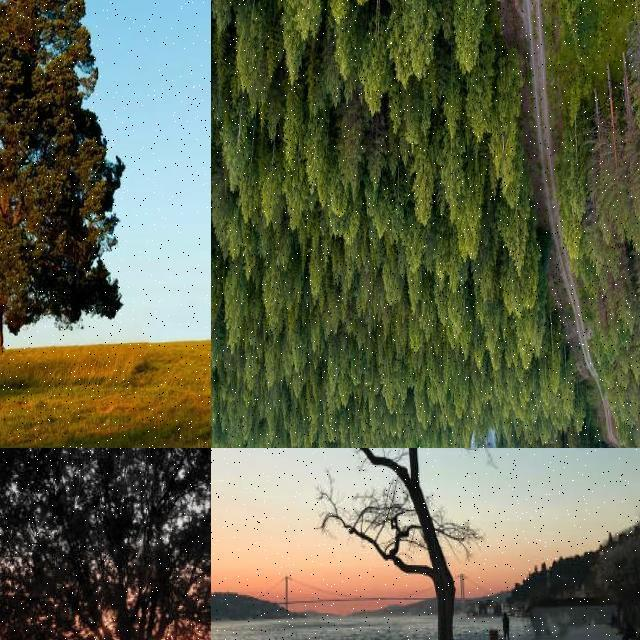tree: (214, 448, 580, 640), (0, 1, 128, 352), (0, 448, 212, 640), (589, 72, 627, 248), (488, 49, 526, 191), (389, 0, 443, 88), (556, 126, 588, 262), (210, 12, 238, 132), (360, 0, 388, 112), (498, 188, 534, 272), (218, 98, 250, 192), (234, 0, 266, 92), (466, 31, 494, 136), (452, 0, 488, 80), (436, 124, 464, 226), (456, 154, 484, 256), (502, 242, 538, 314), (373, 163, 405, 241), (221, 260, 247, 356), (330, 5, 358, 81), (211, 0, 235, 84), (413, 140, 435, 230), (304, 110, 328, 192), (260, 135, 280, 229), (282, 82, 304, 165), (280, 156, 304, 232), (472, 236, 498, 300), (210, 150, 226, 254), (258, 81, 282, 149), (212, 96, 228, 196), (342, 104, 363, 180), (288, 0, 324, 44), (264, 5, 284, 83), (211, 176, 229, 260), (367, 120, 389, 188), (402, 84, 426, 146), (282, 12, 302, 86), (210, 140, 226, 228), (263, 268, 285, 332), (282, 316, 304, 380), (329, 149, 349, 219), (306, 50, 326, 119), (616, 256, 634, 332), (404, 215, 428, 272), (443, 67, 461, 139), (211, 0, 227, 80), (210, 53, 226, 127), (213, 22, 229, 94), (211, 89, 225, 168), (434, 230, 454, 284), (383, 251, 401, 309), (241, 219, 259, 277), (308, 238, 324, 302), (627, 144, 640, 222), (595, 288, 613, 344), (548, 306, 560, 389), (588, 205, 602, 275), (561, 349, 575, 419), (624, 198, 640, 258), (226, 204, 242, 264), (264, 336, 280, 389), (274, 230, 294, 272), (448, 284, 464, 336), (405, 268, 423, 312), (212, 182, 224, 248), (354, 274, 372, 318), (328, 0, 352, 32), (211, 222, 223, 286), (211, 238, 223, 302), (244, 344, 260, 392), (452, 370, 468, 418), (214, 0, 234, 38), (567, 80, 581, 134), (604, 241, 620, 287), (420, 293, 436, 339), (326, 341, 340, 392), (327, 287, 341, 337), (389, 89, 403, 138), (350, 0, 374, 28), (212, 80, 224, 136), (434, 284, 450, 326), (517, 325, 531, 371), (408, 314, 424, 354), (538, 354, 550, 406), (574, 382, 586, 433), (486, 306, 498, 354), (460, 306, 472, 354), (327, 394, 339, 442), (289, 400, 301, 448), (212, 127, 220, 197), (210, 241, 222, 287), (211, 337, 219, 403), (350, 343, 362, 387), (309, 311, 321, 354), (520, 368, 536, 400), (338, 373, 352, 409), (382, 373, 394, 415), (343, 300, 357, 336), (212, 199, 220, 259), (211, 286, 223, 326), (474, 328, 486, 368), (210, 146, 218, 204), (210, 307, 218, 363), (211, 343, 221, 387), (442, 342, 452, 386), (338, 406, 349, 446), (526, 312, 538, 348), (493, 370, 505, 406), (311, 366, 321, 409), (618, 323, 632, 353), (331, 238, 342, 276), (211, 276, 219, 328), (634, 70, 640, 138), (210, 383, 218, 433), (490, 339, 502, 371), (210, 259, 218, 307), (260, 1, 280, 20), (414, 386, 424, 424), (615, 421, 629, 447), (210, 142, 218, 186), (211, 163, 219, 207), (381, 307, 391, 341), (360, 235, 370, 269), (364, 333, 374, 367), (618, 348, 630, 376), (636, 237, 640, 316), (211, 134, 217, 186), (354, 324, 366, 350), (231, 0, 253, 14), (211, 368, 219, 406), (210, 358, 218, 396), (630, 352, 640, 381), (485, 366, 493, 400), (211, 177, 217, 220), (634, 296, 640, 338), (504, 342, 512, 370), (404, 420, 412, 448), (210, 0, 218, 26), (211, 0, 219, 26), (479, 436, 496, 448), (494, 432, 506, 448), (635, 327, 640, 365), (514, 418, 522, 440), (526, 429, 534, 446), (211, 0, 217, 18)
